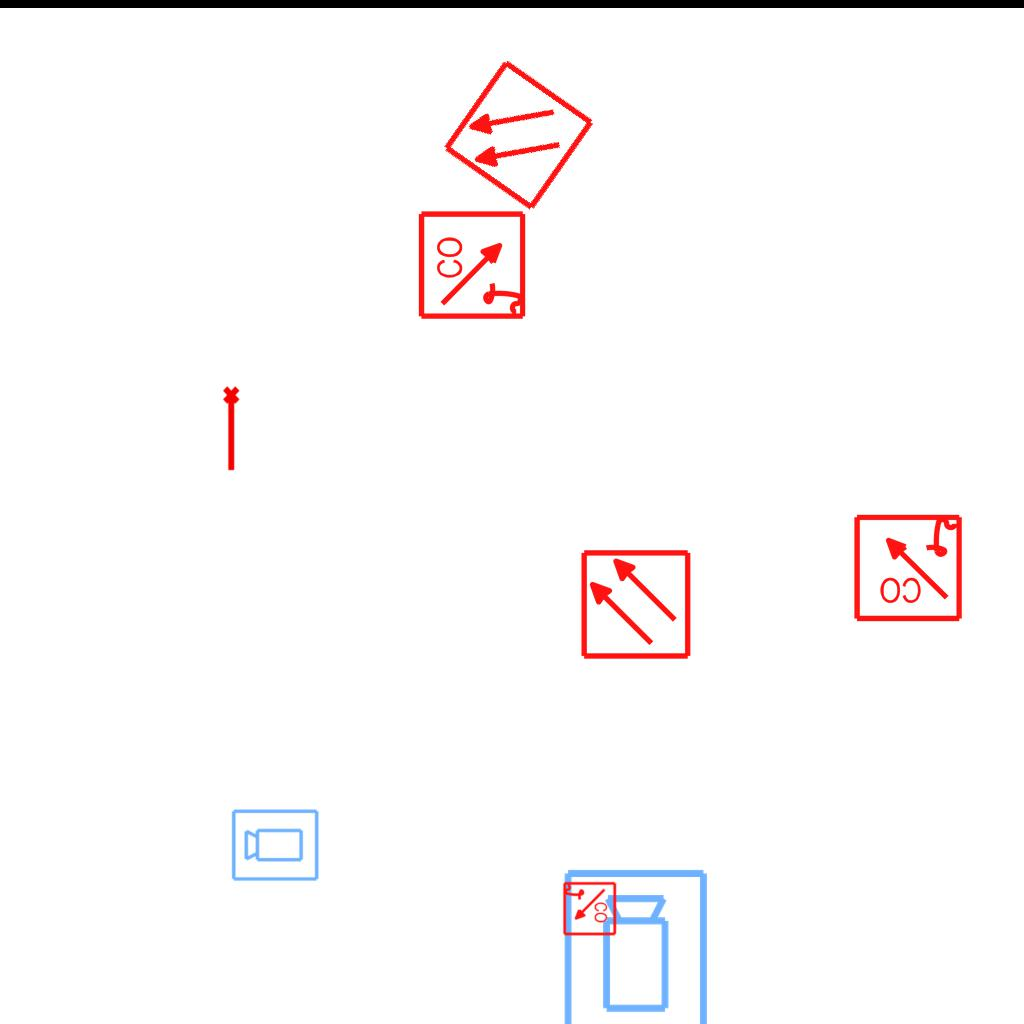ASR_Ansaugoeffnung: (221, 385, 244, 473)
KFO_Kamera_mit_Festobjektiv: (560, 866, 714, 1024), (230, 806, 321, 883)
RMO_Rauchmelder_optischer: (439, 56, 598, 215), (579, 548, 692, 661)
ROA_Rauchmelder_optisch_mit_Signalgeber_(Sockelsirene): (417, 208, 530, 321), (851, 510, 964, 623), (561, 881, 617, 937)
